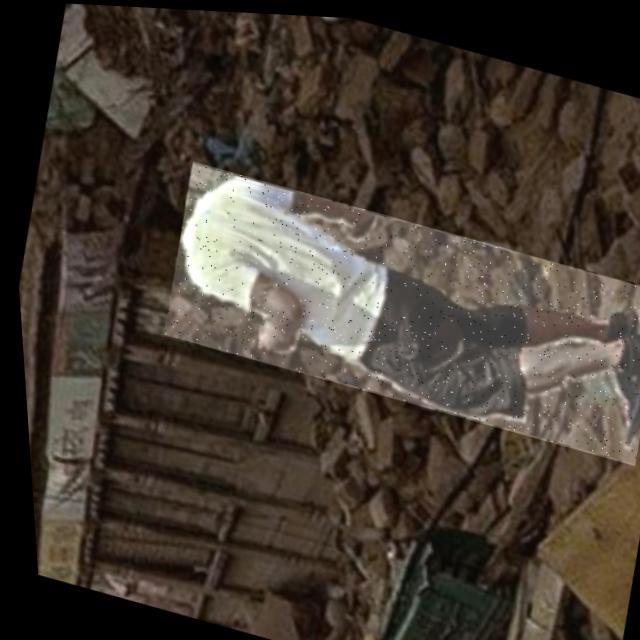Person in Rubble: (150, 157, 640, 459)
